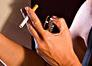smoke: (16, 2, 40, 31)
